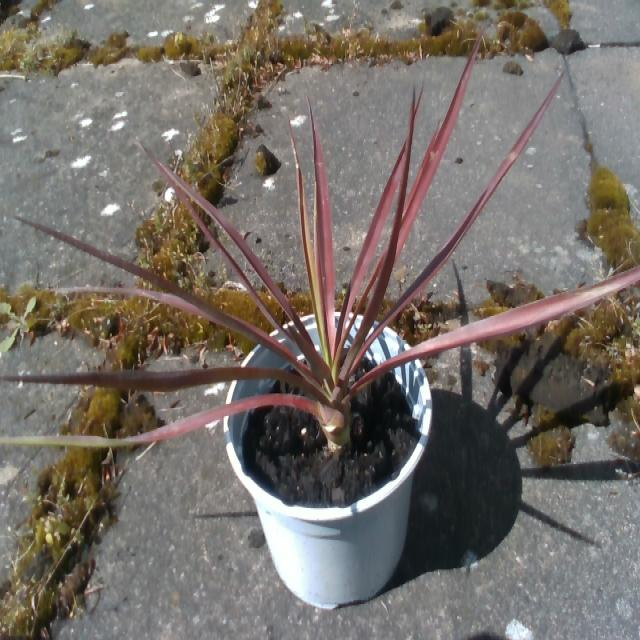Yucca-aloifolia: (382, 76, 561, 327), (348, 267, 639, 396), (17, 216, 267, 344), (143, 148, 309, 339), (394, 36, 483, 264), (343, 115, 414, 368), (171, 177, 278, 328), (0, 396, 314, 447), (338, 143, 407, 336), (55, 288, 240, 328), (0, 367, 292, 391), (309, 103, 334, 351), (290, 125, 321, 319), (348, 249, 385, 328), (245, 323, 256, 339)
